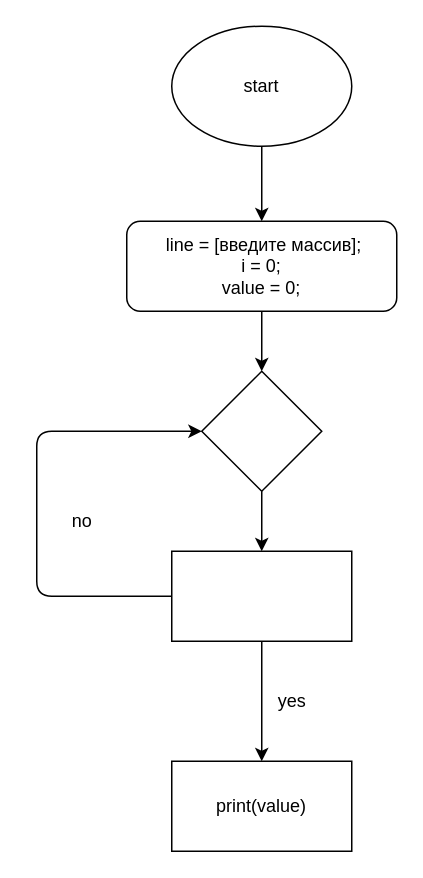
This 423x878 diagram has some shape labels left out. The shapes that lost their labels are listed below. From the top down, each one's centre as x and y in pixels, then its label:
At point (261, 430): "i < line".
At point (261, 595): "line{i} = value value.Length <=3".
